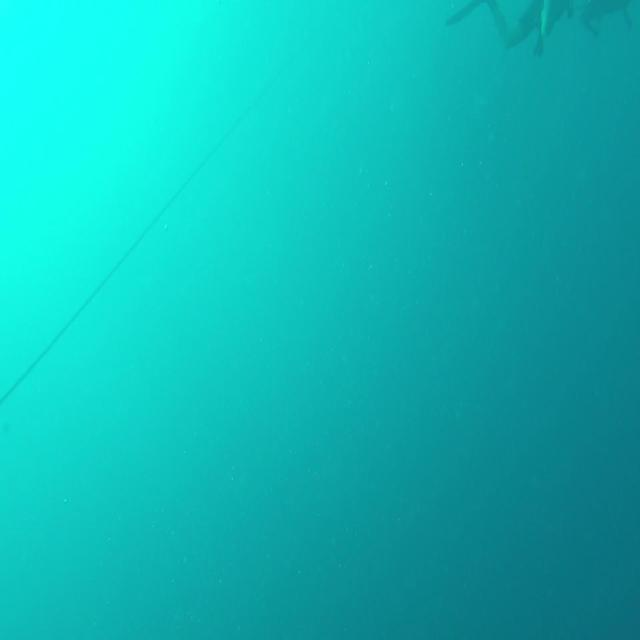human: (445, 0, 573, 57)
